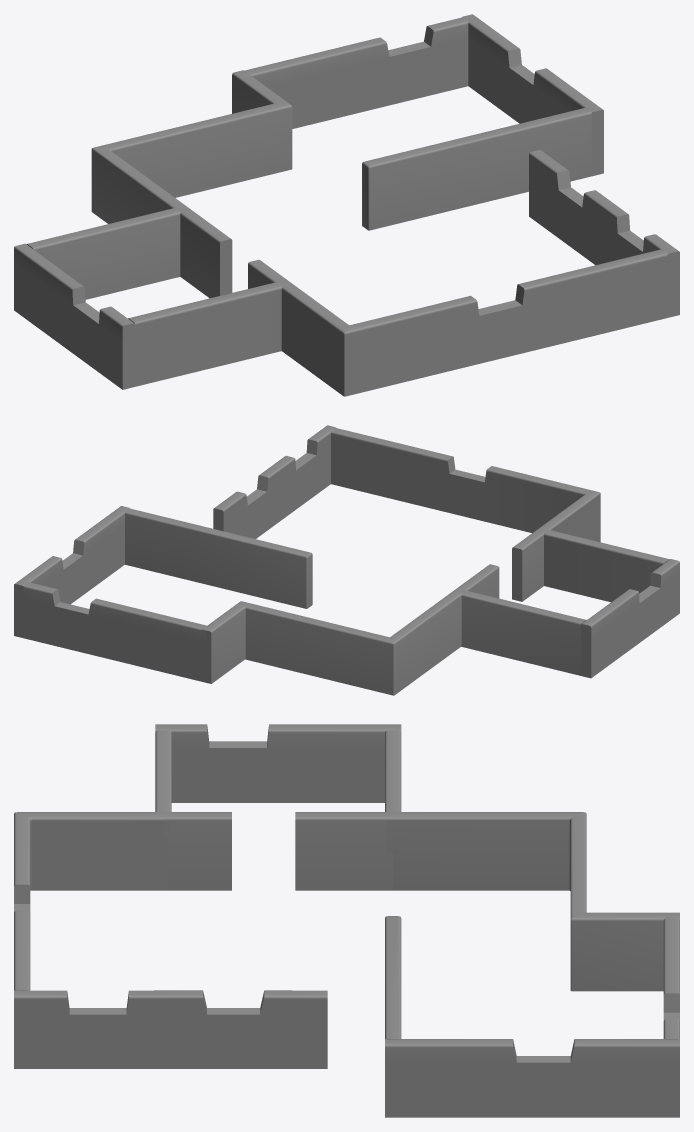
File: Walls.FBX
3 renders of one model, top to bottom at view 1: azimuth 30°, elevation 25°; view 2: azimuth 150°, elevation 25°; view 3: azimuth 270°, elevation 25°, orthographic. The views are drawn at different scales.
Parts seen in each view (by area): view 1: Walls; view 2: Walls; view 3: Walls.
Boxes of the visible parts, left/top/right/bottom form: Walls: left=14, top=14, right=679, bottom=396; Walls: left=14, top=425, right=679, bottom=695; Walls: left=14, top=724, right=679, bottom=1117.
Size of the model in its own units: 282 by 29.65 by 247.
